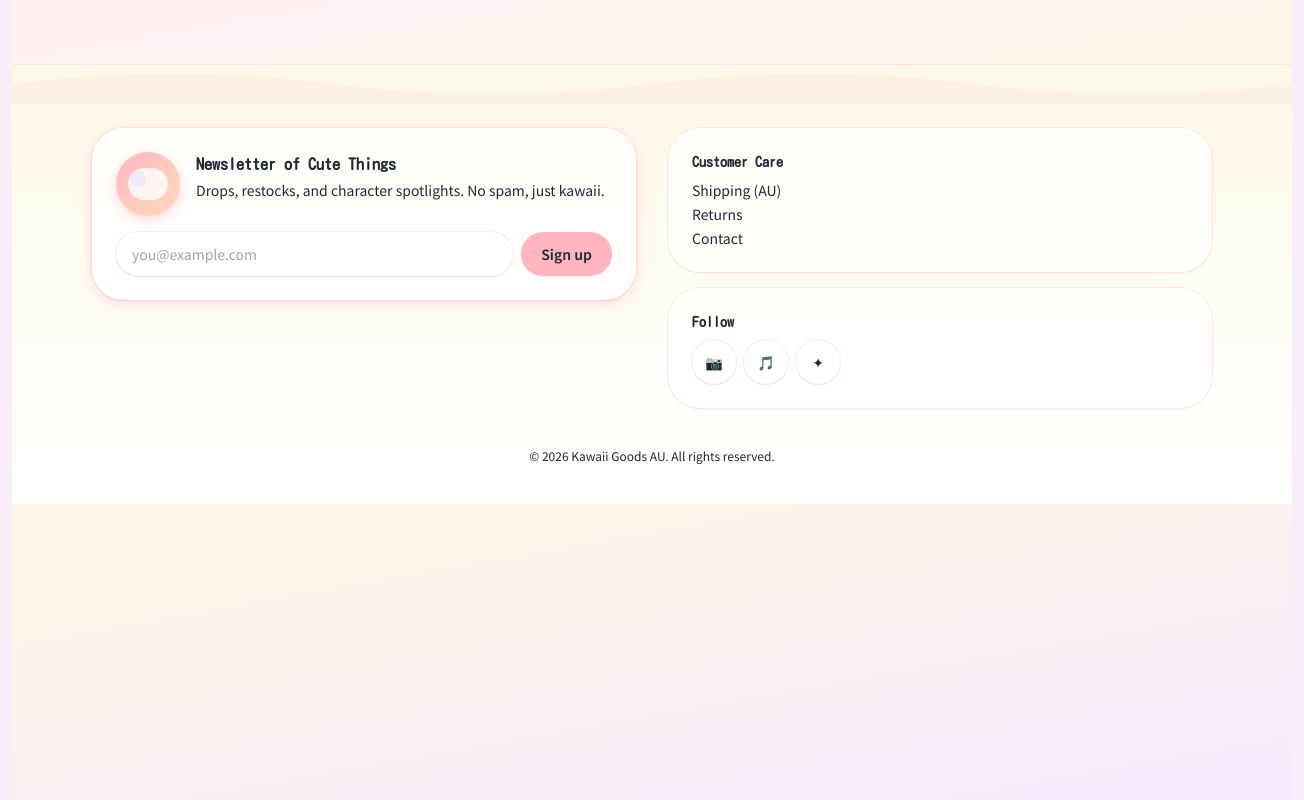
Scenario: Footer › validates newsletter email format client-side
Type "not-an-email" into the field with test id "newsletter-email".
click(315, 254); type("not-an-email")  # box [116,232,513,276]
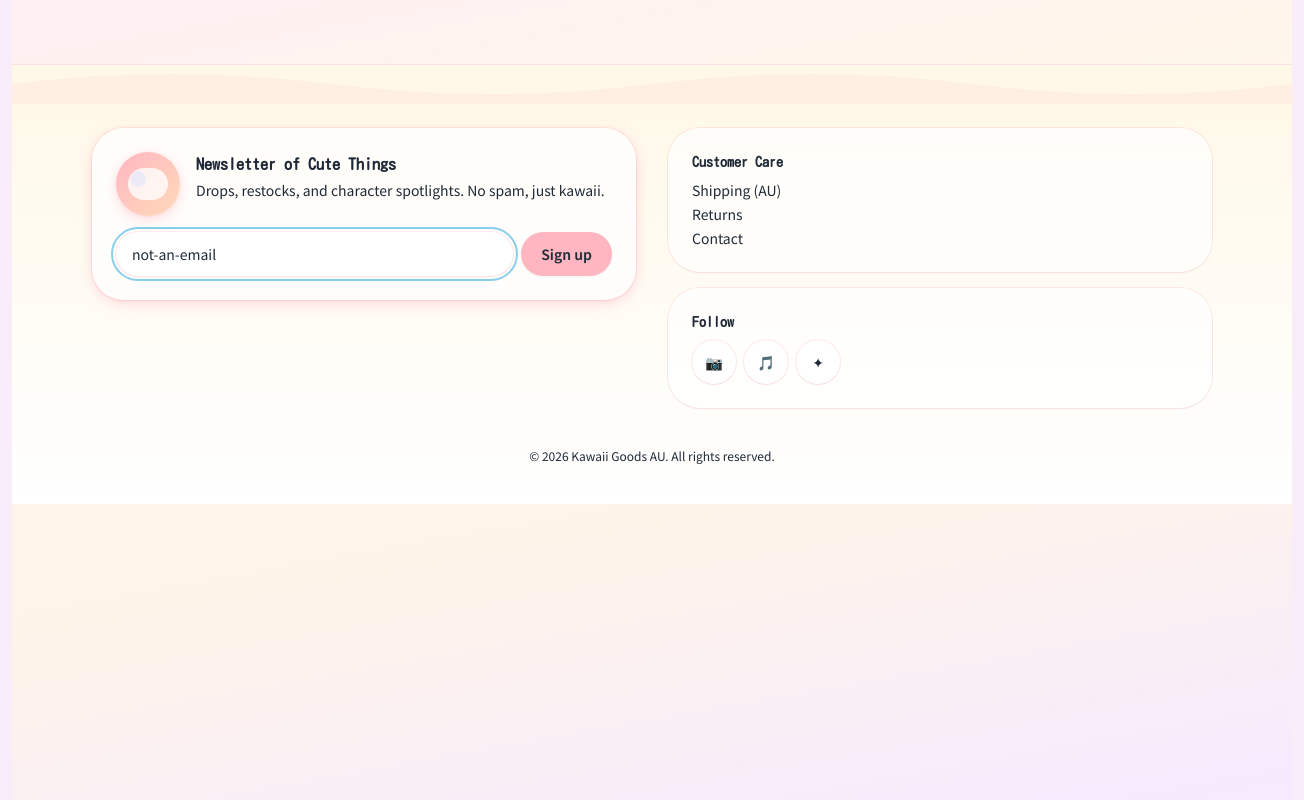
Click the button with test id "newsletter-submit".
click(567, 254)  # box [521,232,612,276]
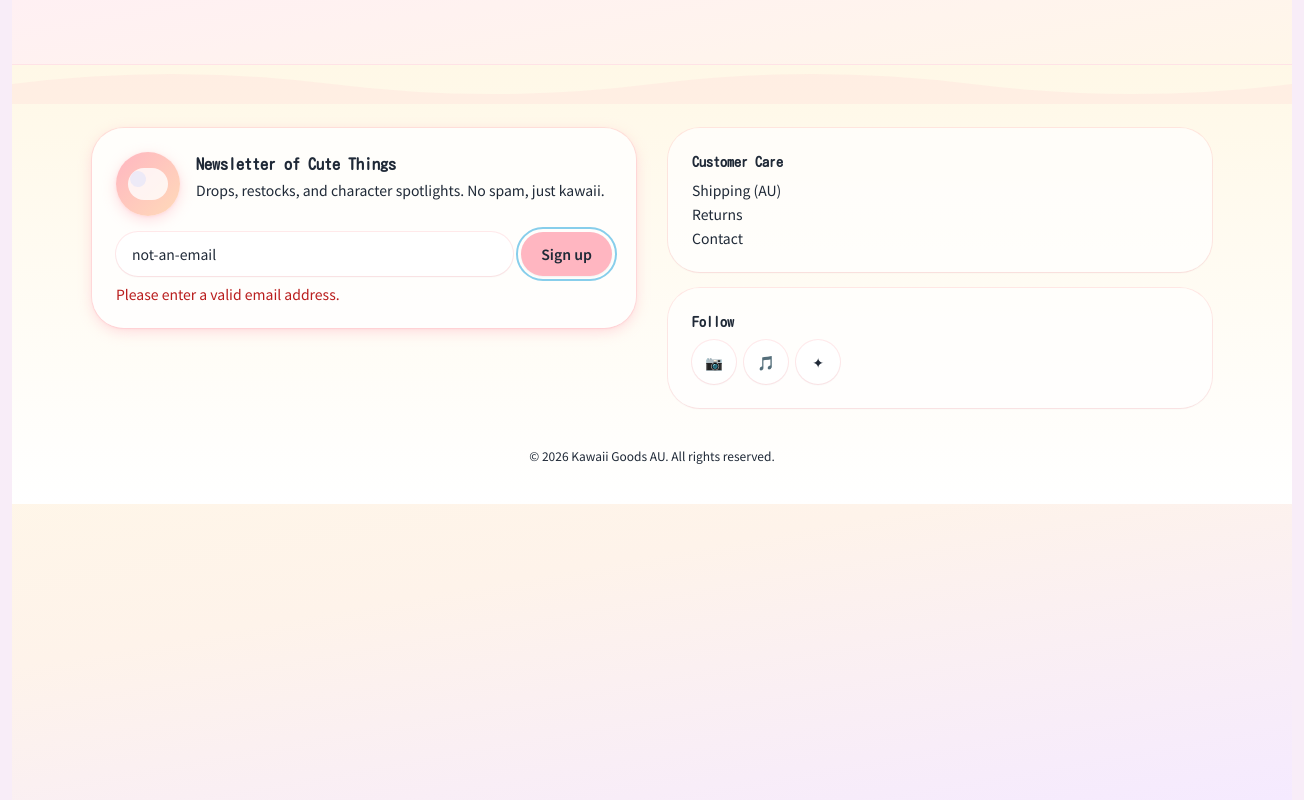
Result: the text with test id "newsletter-error" shows "valid email" at [116,284,340,304]
